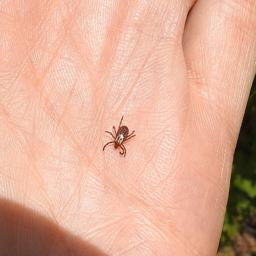Dermacentor variabilis: (101, 116, 137, 159)
